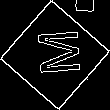M_W: (28, 30, 82, 80)
